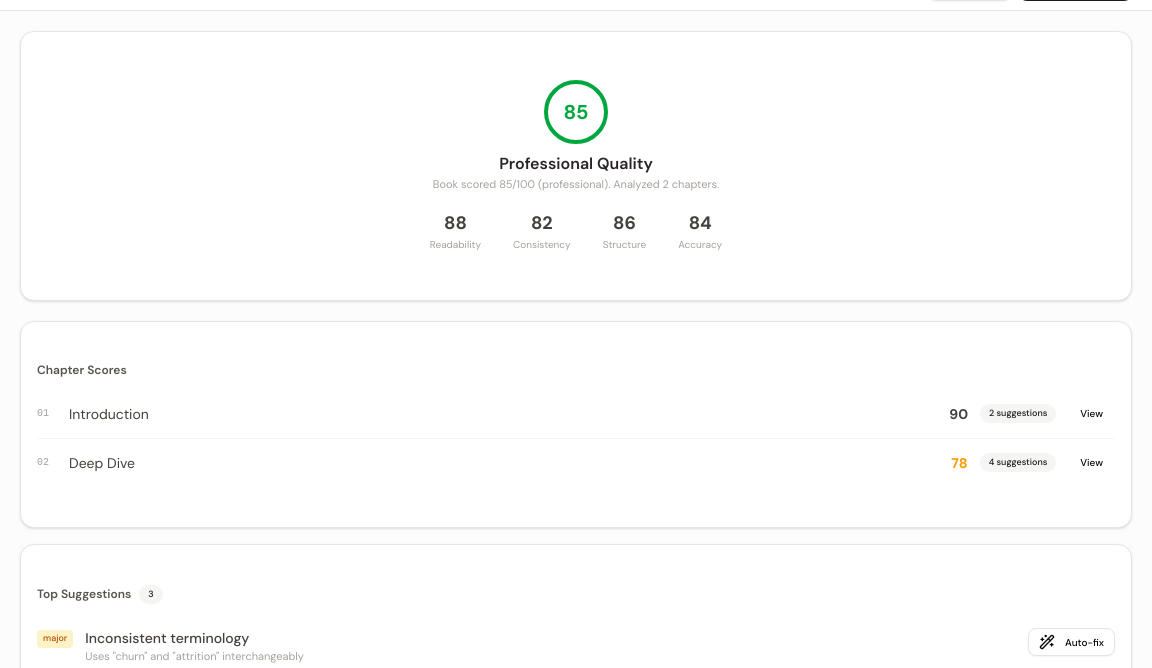
QAWrapper › filters suggestions when View is clicked on a chapter
Click "View" on ch-2 (Deep Dive)
Click the button "View" in the row of "78" at (1092, 462), box [1068,448,1115,476]
(page scrolled)
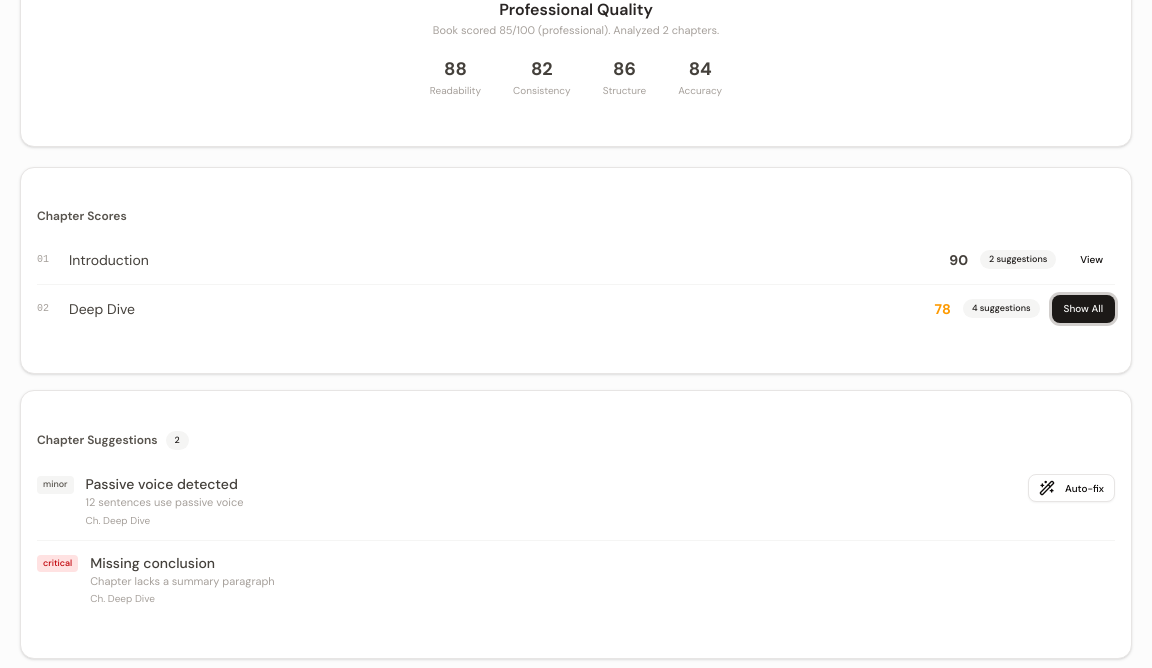
Check: the text "Passive voice detected" is shown, box [86,475,238,493]
Check: the text "Inconsistent terminology" is gone
